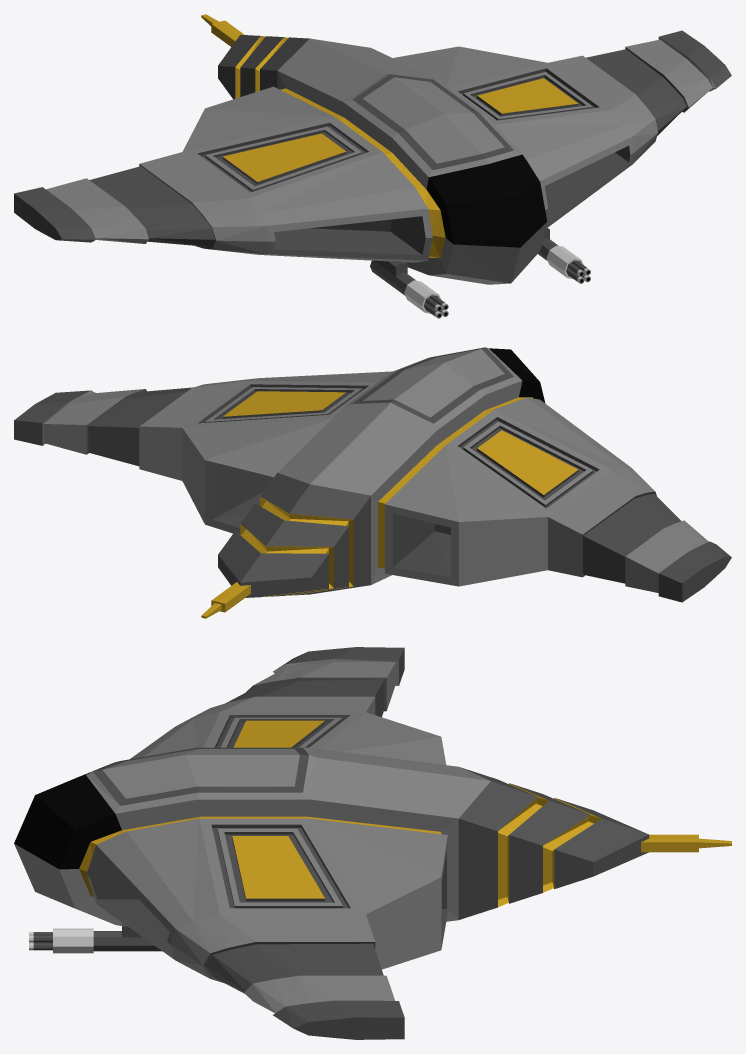
Rendered from Spaceship6_1.fbx.
3 views of the same model, one above another, from view 1: azimuth 30°, elevation 25°; view 2: azimuth 150°, elevation 25°; view 3: azimuth 270°, elevation 25° (orthographic). The views are drawn at different scales.
Parts seen in each view (by area): view 1: Spaceship6_1; view 2: Spaceship6_1; view 3: Spaceship6_1.
Boxes of the visible parts, x1,y1,x2,y2 form: Spaceship6_1: [14, 14, 731, 318]; Spaceship6_1: [14, 347, 731, 618]; Spaceship6_1: [14, 647, 731, 1039].
Size of the model in its own units: 1430 by 314 by 1171.
